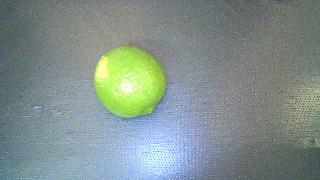EXPORTACION: (94, 46, 166, 118)
